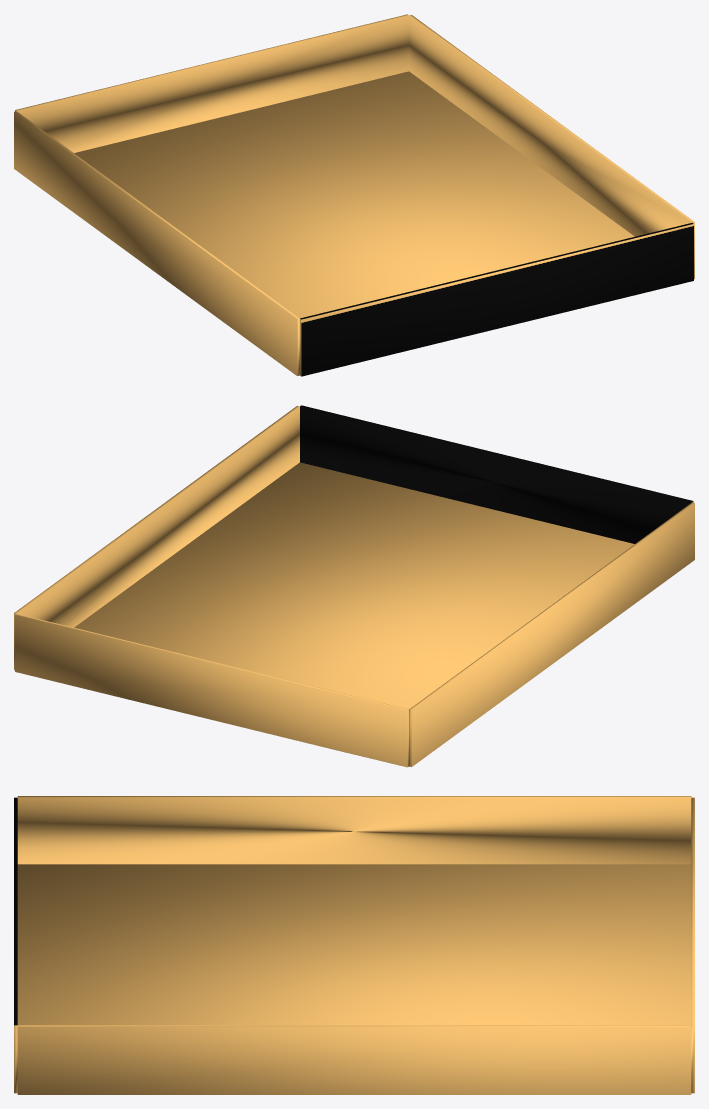
The model's file is bossStage.fbx.
The picture shows the model from 3 angles, top to bottom: view 1: azimuth 30°, elevation 25°; view 2: azimuth 150°, elevation 25°; view 3: azimuth 270°, elevation 25°; orthographic projection. The views are drawn at different scales.
Parts seen in each view (by area): view 1: Cube; view 2: Cube; view 3: Cube.
Part boxes in pixels (x1=…): Cube: x1=14, y1=14, x2=694, y2=376; Cube: x1=14, y1=405, x2=694, y2=767; Cube: x1=14, y1=796, x2=694, y2=1094.
Bounding box in the file's own units: 584 × 80 × 728.
